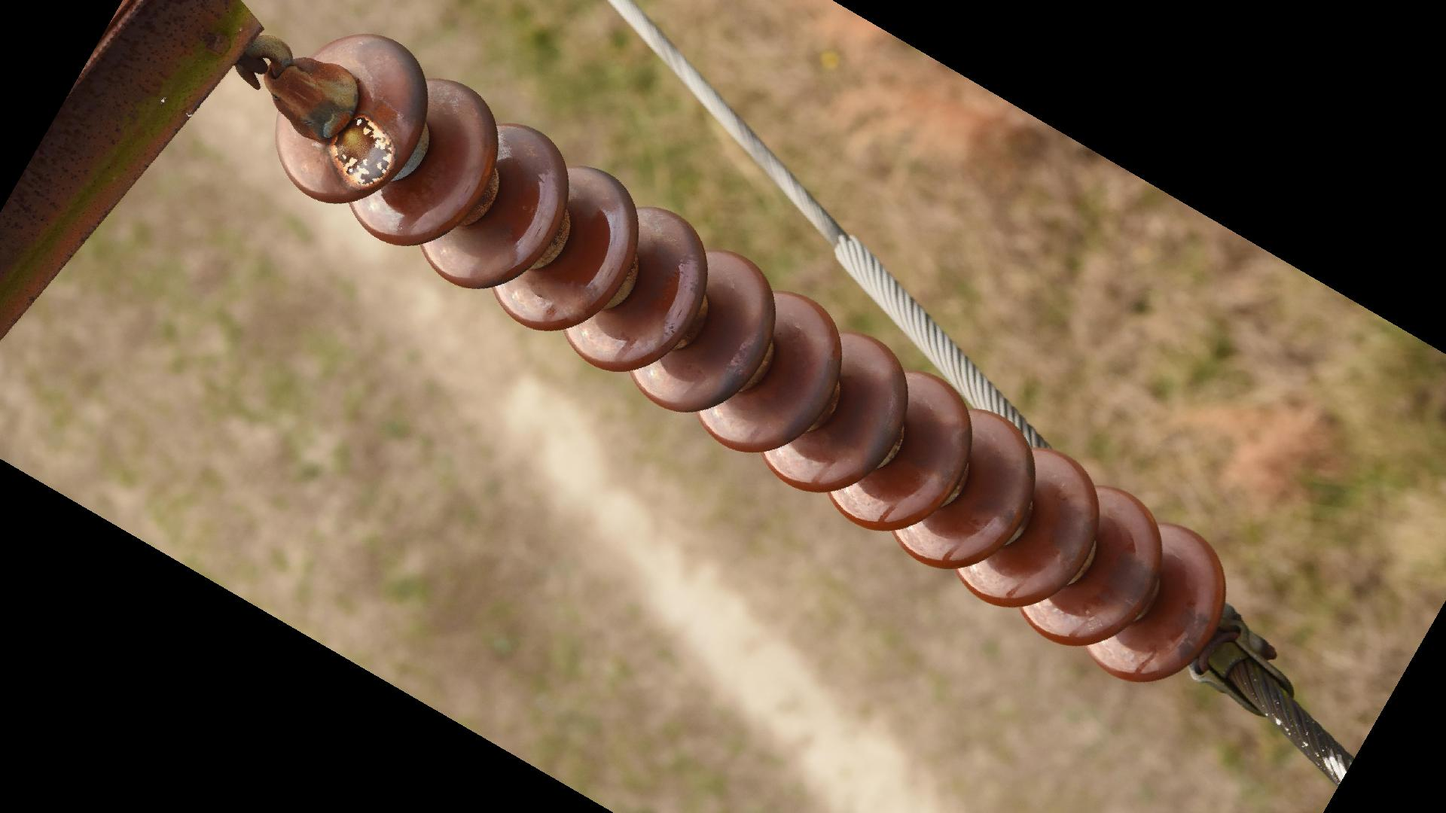insulator: (268, 26, 1234, 687)
insulator_flashover: (327, 112, 398, 193)
